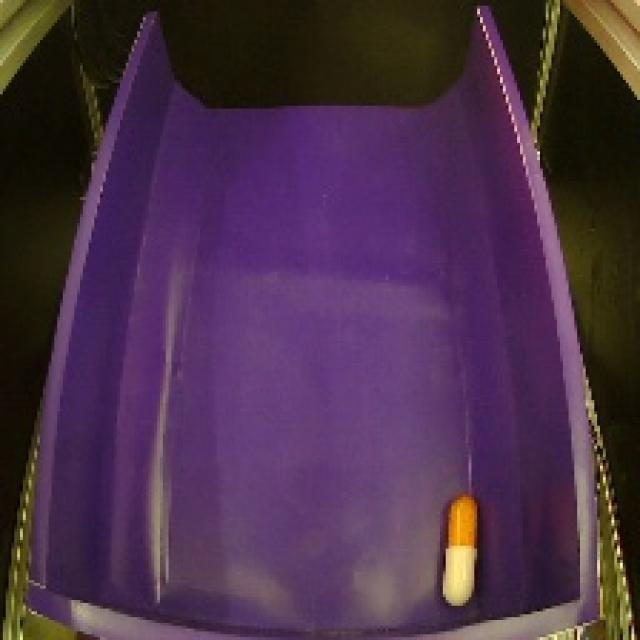small: (437, 483, 482, 614)
